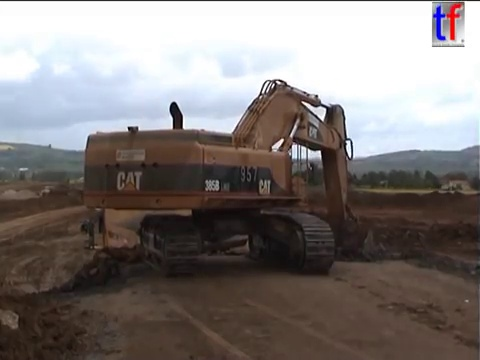excavator: (79, 75, 370, 276)
truck: (79, 204, 249, 280), (40, 182, 74, 202)
